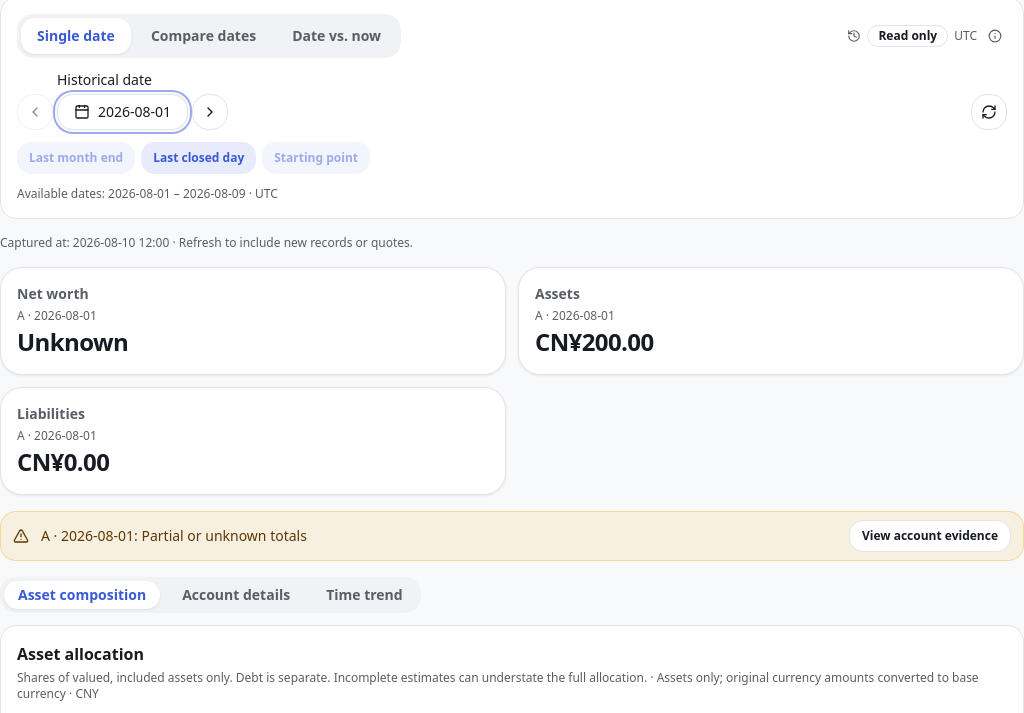
Test: shows unknown, zero, absent, archived and manual evidence without fetching current details
Click the tab "Account details" at (236, 595), box [168, 581, 304, 609]
(page scrolled)
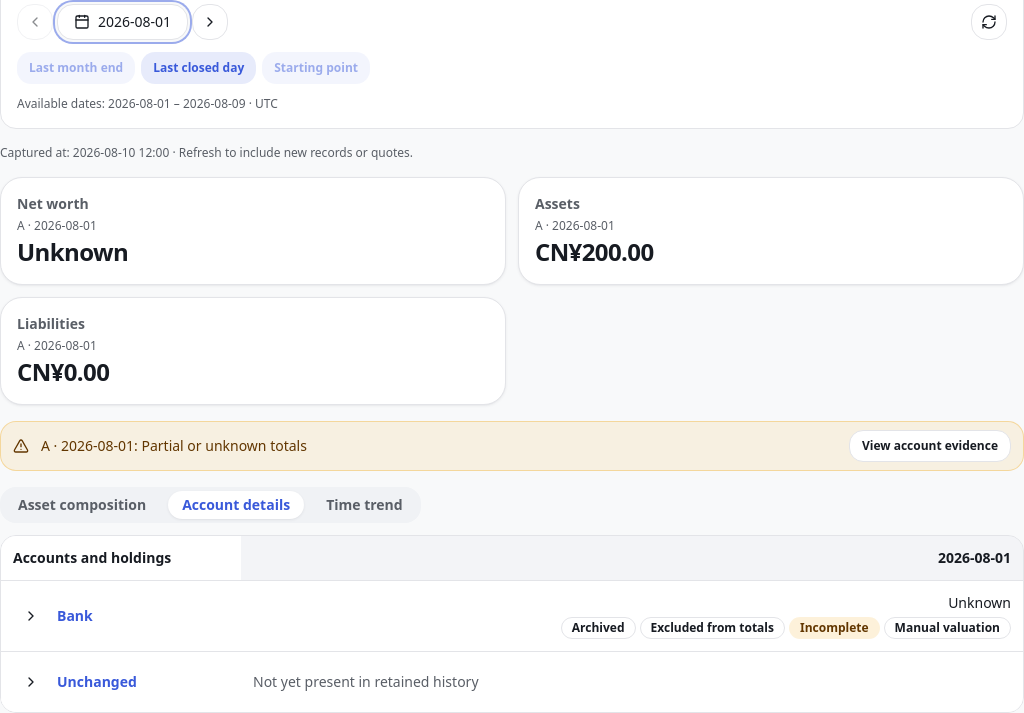
expect the text "Unknown" below "Net worth" is shown: met, box [17, 236, 128, 268]
expect the button "Bank" is shown: met
Click the button "Bank" at (75, 616), box [57, 606, 93, 626]
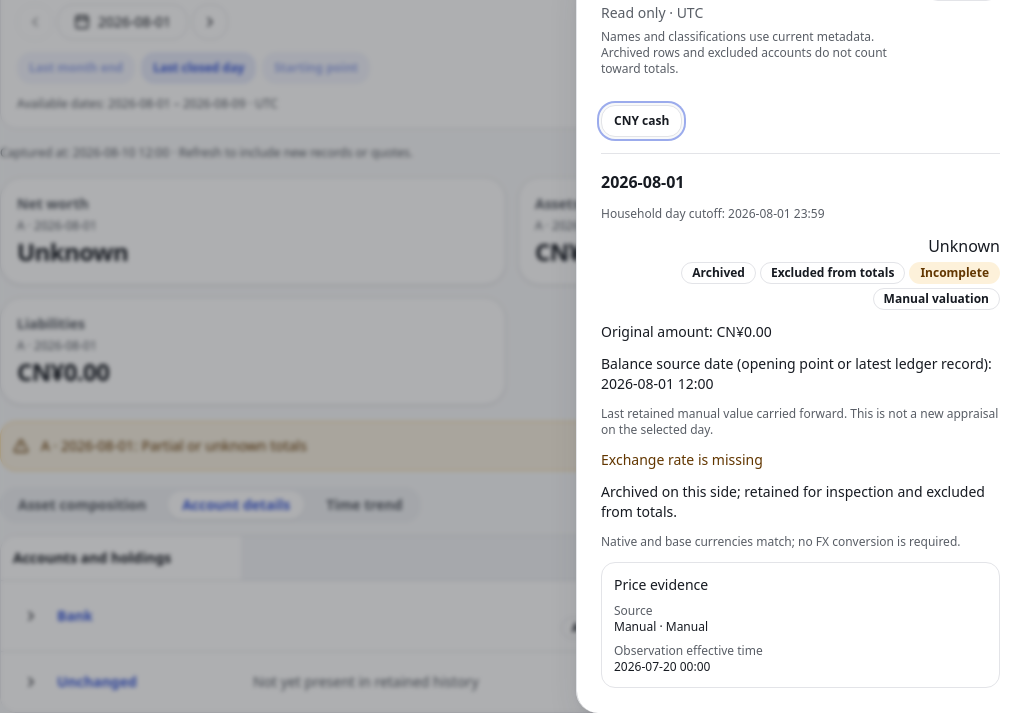
expect the dialog shows "Exchange rate is missing": met, box [601, 450, 763, 469]
expect the dialog shows "Archived": met, box [692, 264, 745, 281]
